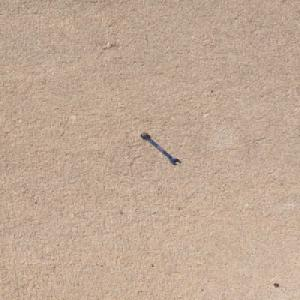Wrench: (139, 132, 181, 165)
